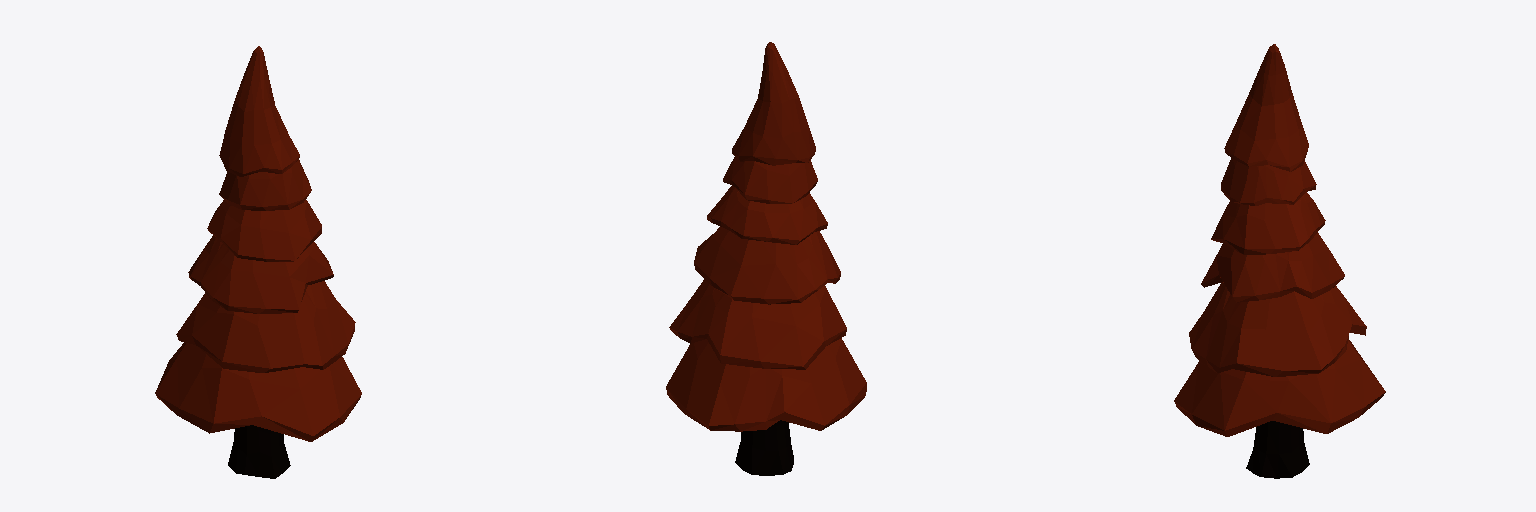
The model's file is pine_tree_2_autumn.obj.
The picture shows the model from 3 angles: view 1: azimuth 30°, elevation 25°; view 2: azimuth 150°, elevation 25°; view 3: azimuth 270°, elevation 25°; orthographic projection.
Visible parts, largest first — view 1: pine_tree_2_autumn; view 2: pine_tree_2_autumn; view 3: pine_tree_2_autumn.
Boxes of the visible parts, <box> form: pine_tree_2_autumn: <box>155,46,361,478</box>; pine_tree_2_autumn: <box>666,42,866,475</box>; pine_tree_2_autumn: <box>1174,44,1385,478</box>.
Size of the model in its own units: 2.14 by 5.48 by 2.48.